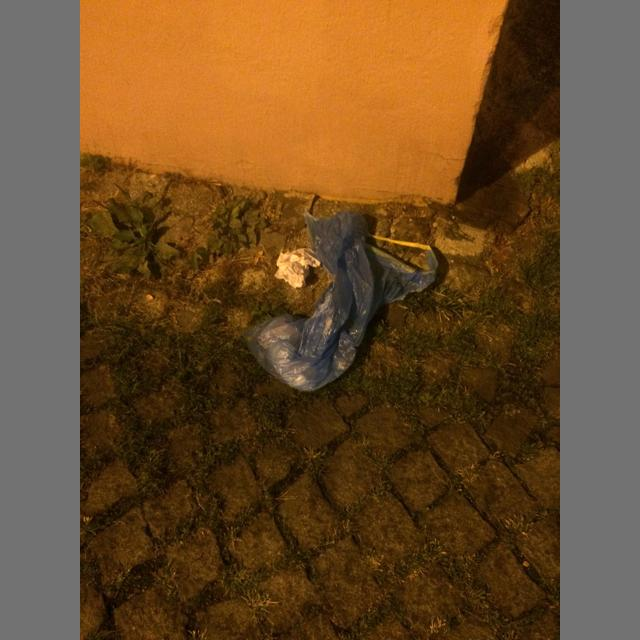litter: (243, 210, 439, 391), (275, 248, 321, 288)
